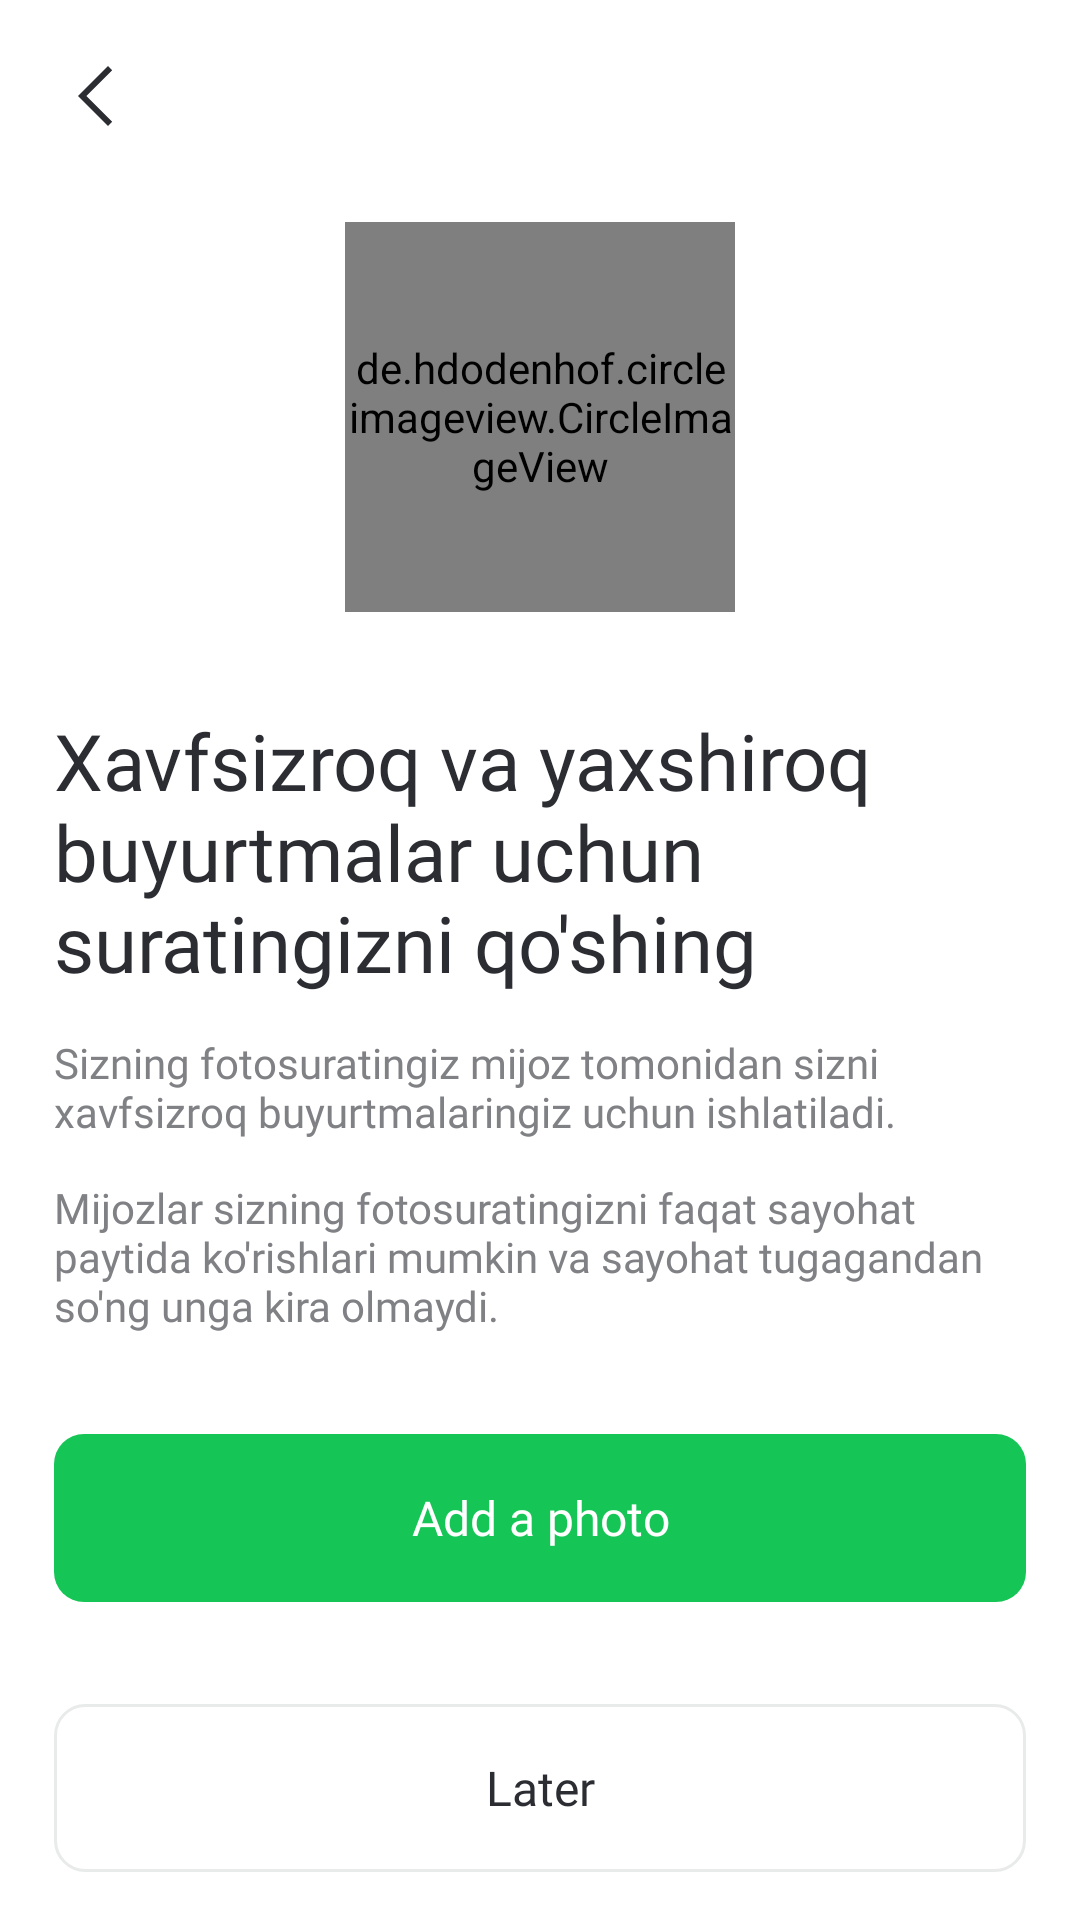

Icon bounding boxes for this 1080px×1920px phone screenshot, format region(x1, y1, x2, y2):
arrow left: region(78, 66, 112, 126)
